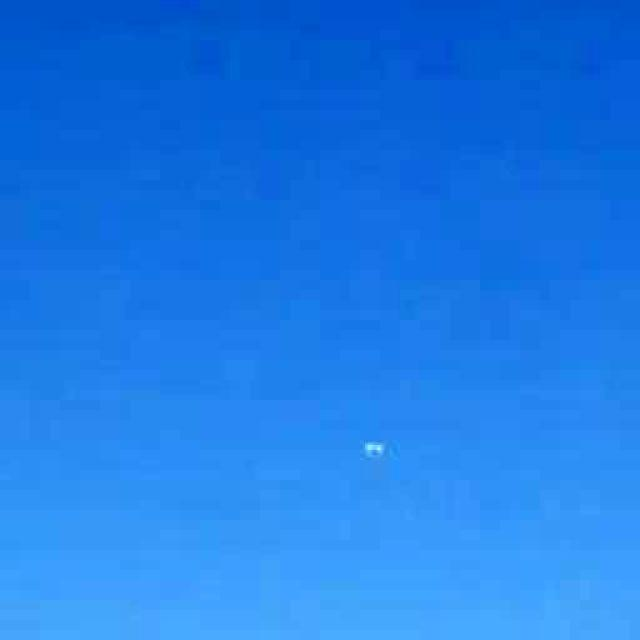bird: (345, 421, 410, 484)
